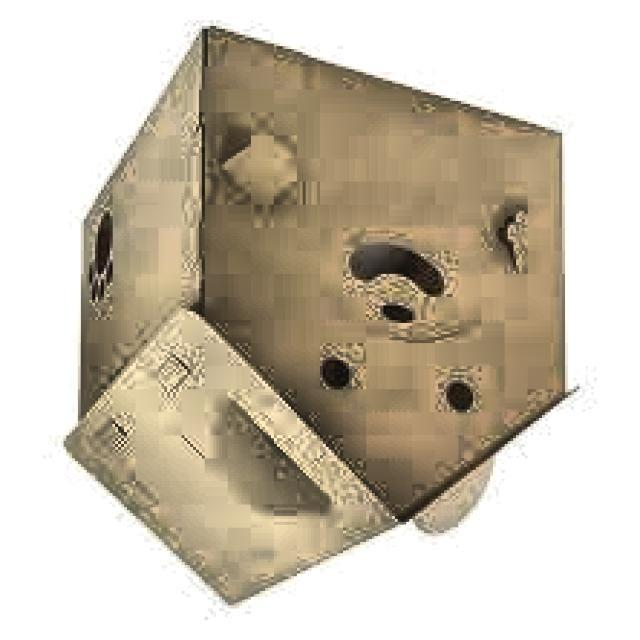cardboard: (61, 26, 576, 611)
